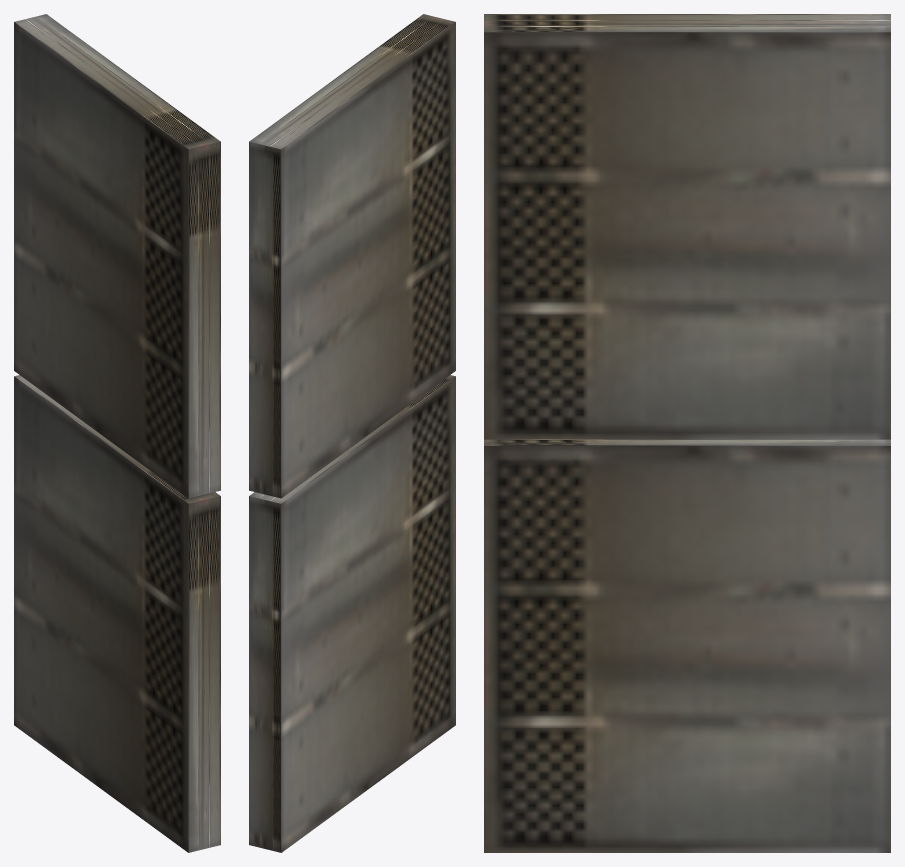
File: elevatordoors_wtf.obj
3 renders of one model, left to right at view 1: azimuth 30°, elevation 25°; view 2: azimuth 150°, elevation 25°; view 3: azimuth 270°, elevation 25°, orthographic. The views are drawn at different scales.
Parts seen in each view (by area): view 1: group2, group1; view 2: group2, group1; view 3: group2, group1.
Boxes of the visible parts, x1,y1,x2,y2 form: group2: (14,14,220,498); group1: (14,375,220,852); group2: (249,14,455,498); group1: (249,375,455,852); group2: (484,14,890,439); group1: (484,439,890,852).
Bounding box in the file's own units: 31.79 × 660 × 297.
